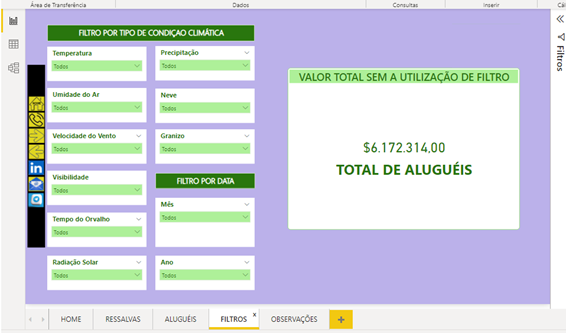

What the dashboard file says about the page in this screenshot:
{"tool":"powerbi","page":{"name":"FILTROS","canvas":[1280,720],"ordinal":3},"visuals":[{"type":"slicer","fields":{"Values":["Aluguel_de_bicicleta.1_Temperatura"]},"box":[54,92.1,242,84],"z":0},{"type":"slicer","fields":{"Values":["Aluguel_de_bicicleta.2_Umidade_do_Ar"]},"box":[53.9,192.8,242.4,83.6],"z":1000},{"type":"slicer","fields":{"Values":["Aluguel_de_bicicleta.3_Velocidade_do_Vento"]},"box":[53.9,293.4,242.4,83.6],"z":2000},{"type":"slicer","fields":{"Values":["Aluguel_de_bicicleta.4_Visibilidade"]},"box":[53.9,395.4,242.4,83.6],"z":3000},{"type":"slicer","fields":{"Values":["Aluguel_de_bicicleta.5_Tempo_do_Orvalho"]},"box":[53.9,497.5,242.4,83.6],"z":4000},{"type":"slicer","fields":{"Values":["Aluguel_de_bicicleta.6_Radiacao_Solar"]},"box":[54,602.4,242.4,83.6],"z":5000},{"type":"slicer","fields":{"Values":["Aluguel_de_bicicleta.7_Precipitacao"]},"box":[317.5,90.7,242.4,83.6],"z":6000},{"type":"slicer","fields":{"Values":["Aluguel_de_bicicleta.8_Neve"]},"box":[317.5,194.2,242.4,83.6],"z":7000},{"type":"slicer","fields":{"Values":["Aluguel_de_bicicleta.9_Granizo"]},"box":[317.5,293.4,242.4,83.6],"z":8000},{"type":"card","title":"VALOR TOTAL SEM A UTILIZAÇÃO DE FILTRO","fields":{"Values":["#Medidas.total de aluguel"]},"box":[640.6,144.6,565.5,395.4],"z":9000},{"type":"slicer","fields":{"Values":["CalendarioPQ.Nome do Mês"]},"box":[317.5,460.6,242.4,120.5],"z":10000},{"type":"slicer","fields":{"Values":["CalendarioPQ.Ano"]},"box":[317.5,602.4,242.4,83.6],"z":11000},{"type":"textbox","box":[317.1,400,242.9,37.8],"z":12000},{"type":"textbox","box":[53.9,38.3,506,39.7],"z":13000},{"type":"image","box":[0,119.5,53,479.5],"z":14000}]}

Visuals, with their boxes on the page's 1280x720 design canvas (x1, y1, x2, y2). These are canvas units, not pixel positions in the 566x333 screenshot, which may show the page scaled, cropped or inside an application window:
slicer - Aluguel_de_bicicleta.1_Temperatura: 54, 92, 296, 176
slicer - Aluguel_de_bicicleta.2_Umidade_do_Ar: 54, 193, 296, 276
slicer - Aluguel_de_bicicleta.3_Velocidade_do_Vento: 54, 293, 296, 377
slicer - Aluguel_de_bicicleta.4_Visibilidade: 54, 395, 296, 479
slicer - Aluguel_de_bicicleta.5_Tempo_do_Orvalho: 54, 498, 296, 581
slicer - Aluguel_de_bicicleta.6_Radiacao_Solar: 54, 602, 296, 686
slicer - Aluguel_de_bicicleta.7_Precipitacao: 318, 91, 560, 174
slicer - Aluguel_de_bicicleta.8_Neve: 318, 194, 560, 278
slicer - Aluguel_de_bicicleta.9_Granizo: 318, 293, 560, 377
"VALOR TOTAL SEM A UTILIZAÇÃO DE FILTRO" card: 641, 145, 1206, 540
slicer - CalendarioPQ.Nome do Mês: 318, 461, 560, 581
slicer - CalendarioPQ.Ano: 318, 602, 560, 686
textbox: 317, 400, 560, 438
textbox: 54, 38, 560, 78
image: 0, 120, 53, 599
